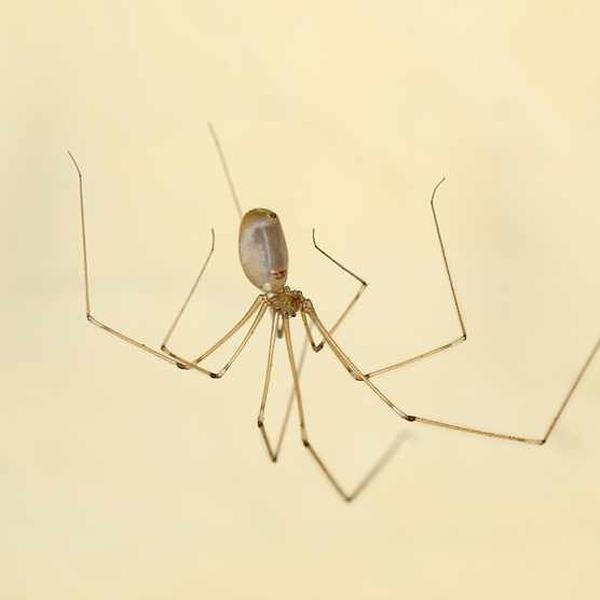Daddy Long Legs Spider: (72, 124, 600, 502)
